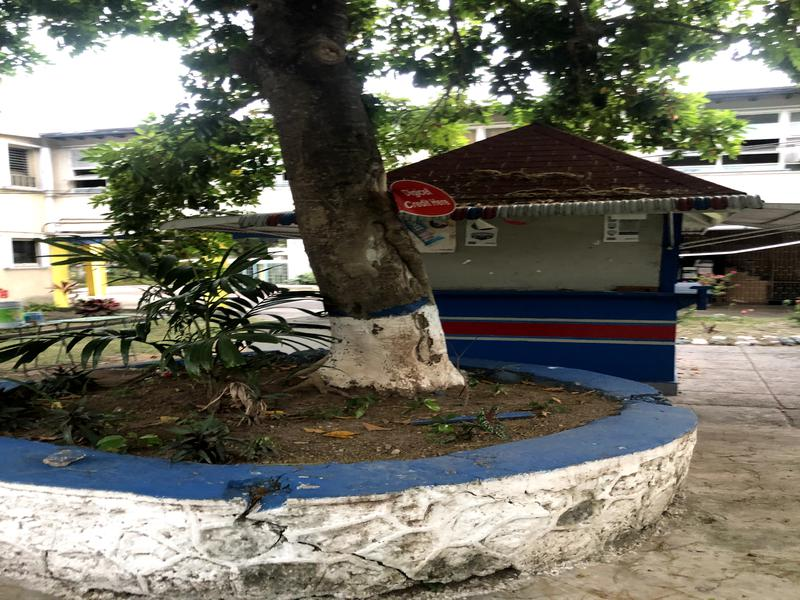18.0050609_-76.7496662_auntyjackie: (369, 114, 775, 403)
